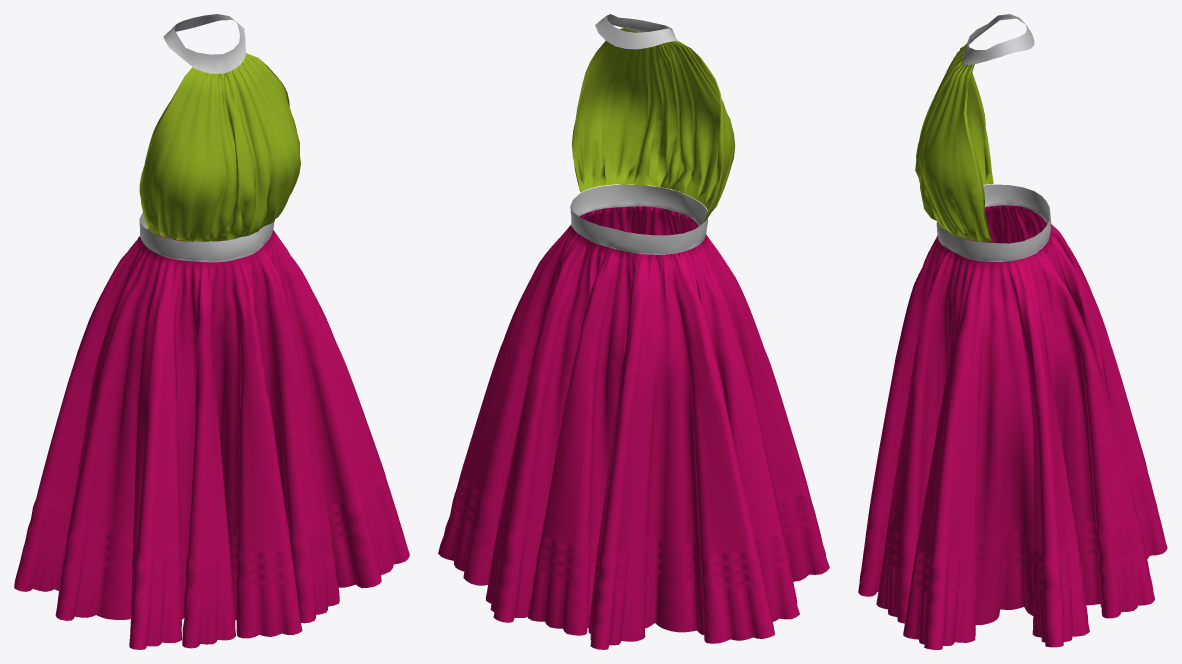
Rendered from dress-mesh.fbx.
The picture shows the model from 3 angles, left to right: view 1: azimuth 30°, elevation 25°; view 2: azimuth 150°, elevation 25°; view 3: azimuth 270°, elevation 25°; orthographic projection. The views are drawn at different scales.
Visible parts, largest first — view 1: Skirt, Top, Detail; view 2: Skirt, Top, Detail; view 3: Skirt, Top, Detail.
Part boxes in pixels (x1,y1,x2,y2): Skirt: (14, 229, 409, 649); Top: (139, 53, 300, 241); Detail: (139, 14, 274, 262); Skirt: (438, 206, 829, 649); Top: (572, 28, 735, 222); Detail: (570, 14, 707, 254); Skirt: (858, 205, 1167, 649); Top: (915, 43, 993, 242); Detail: (936, 14, 1051, 261).
Size of the model in its own units: 61.91 by 101 by 50.32.
